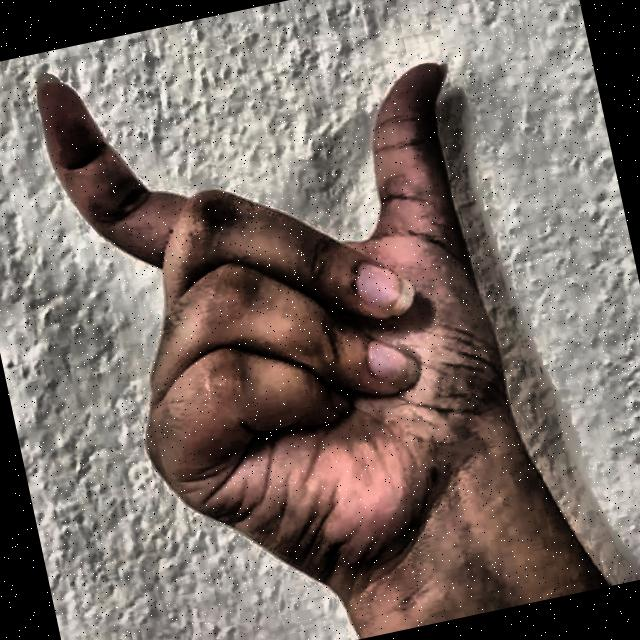ChandraBindu: (7, 0, 616, 640)
